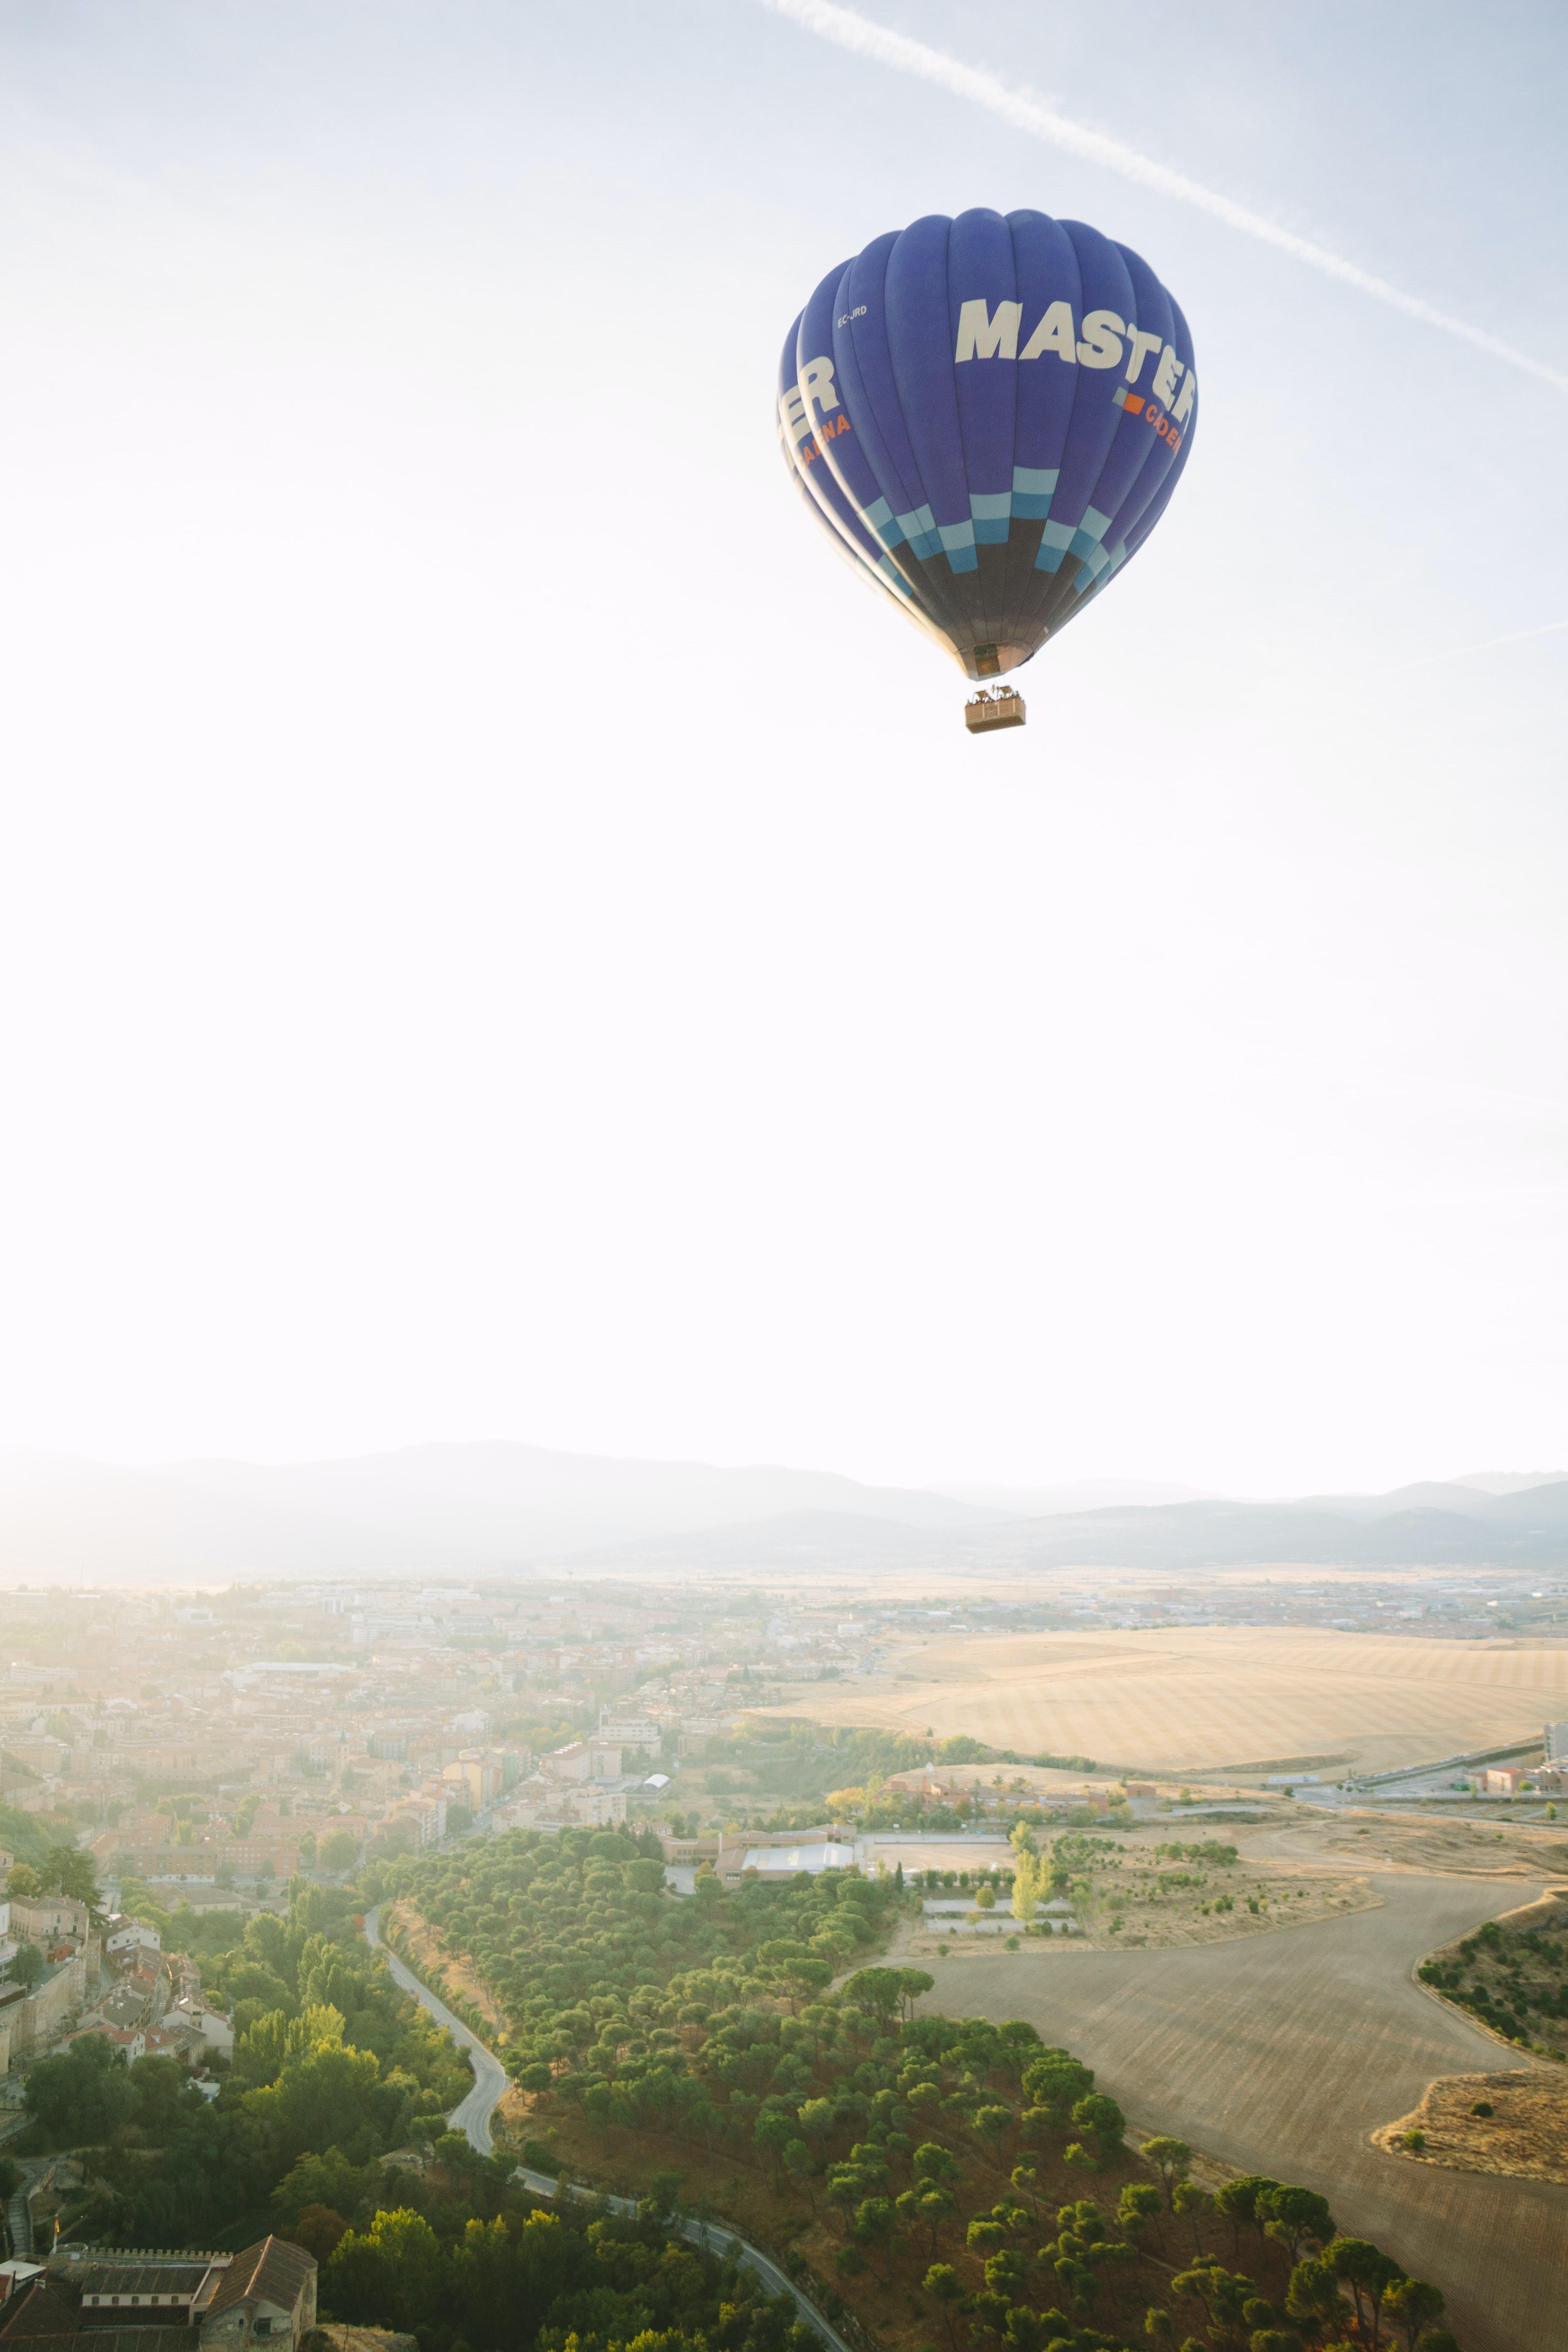hot air ballon: (759, 186, 1206, 747)
